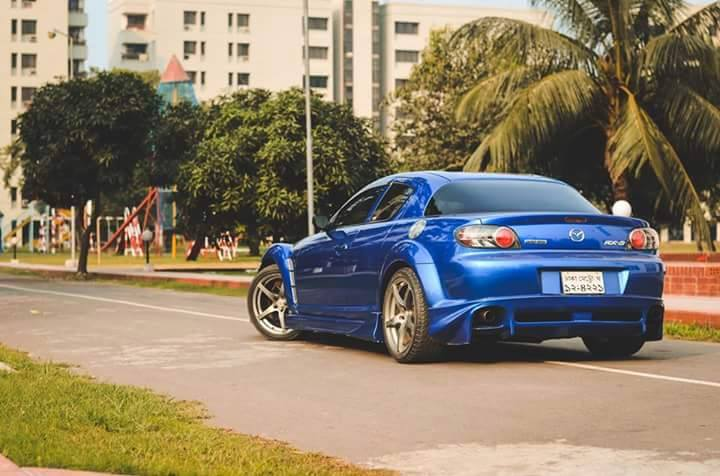registration_plate: (560, 270, 606, 295)
